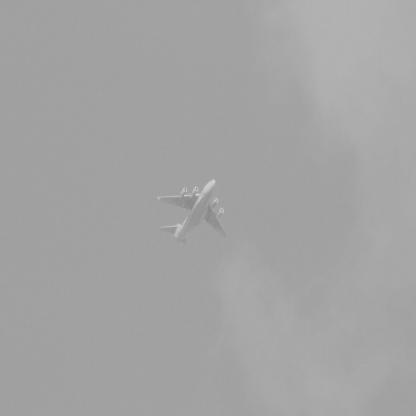C17: (158, 180, 228, 247)
